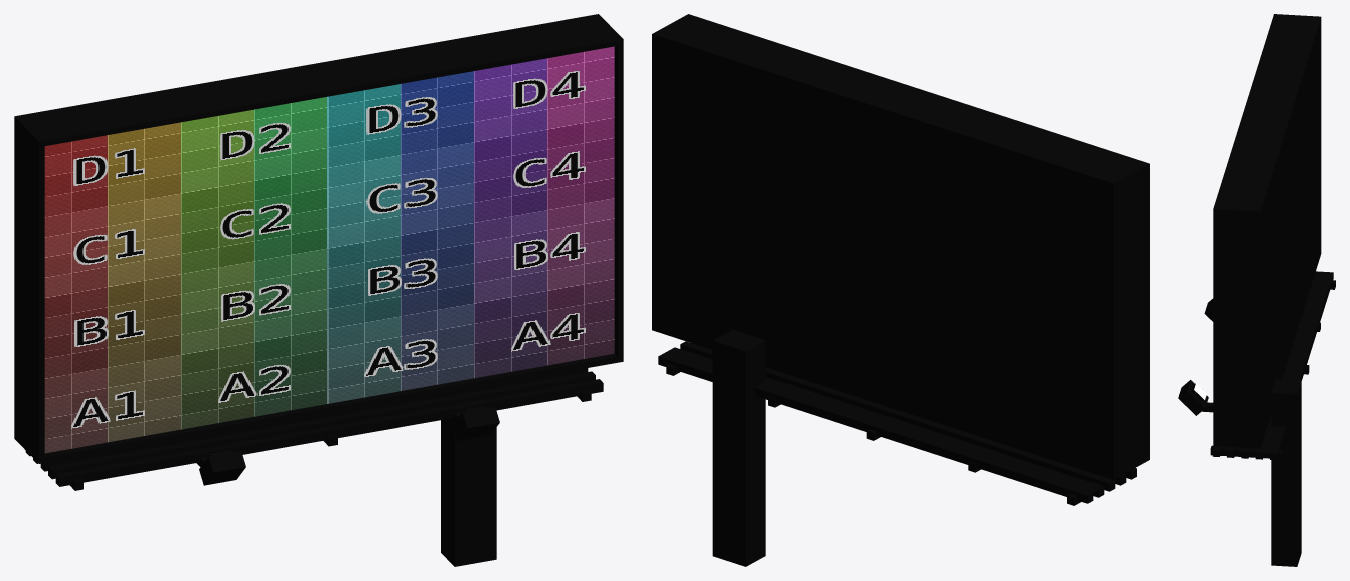
File: billboard.glb
3 renders of one model, left to right at view 1: azimuth 30°, elevation 25°; view 2: azimuth 150°, elevation 25°; view 3: azimuth 270°, elevation 25°, orthographic. The views are drawn at different scales.
Parts seen in each view (by area): view 1: billboard, platform, post; view 2: billboard, platform, post; view 3: billboard, post, platform.
Part boxes in pixels (x1,y1,x2,y2): billboard: [14, 14, 623, 463]; platform: [25, 368, 603, 490]; post: [441, 410, 496, 566]; billboard: [652, 14, 1149, 479]; platform: [658, 341, 1136, 505]; post: [712, 329, 765, 566]; billboard: [1213, 14, 1321, 448]; post: [1271, 379, 1301, 566]; platform: [1178, 271, 1335, 460].
Bounding box in the file's own units: 36.3 × 33.24 × 12.24.
3 materials, 1 textured.
